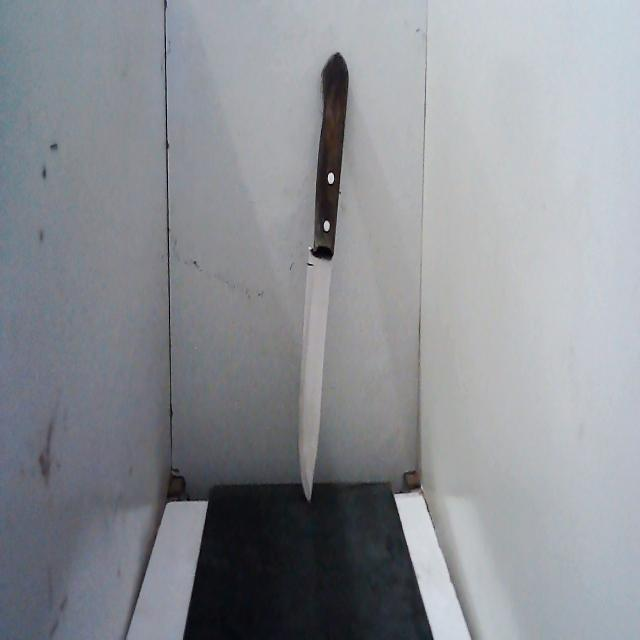metal: (291, 242, 337, 508)
